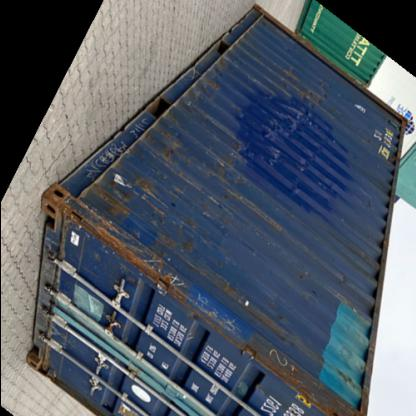Damage: (82, 210, 190, 290), (262, 112, 326, 180), (226, 177, 284, 235), (282, 62, 334, 105), (193, 294, 245, 335), (104, 169, 160, 202), (262, 344, 310, 381), (340, 340, 370, 396), (150, 134, 188, 164), (330, 266, 357, 286)
